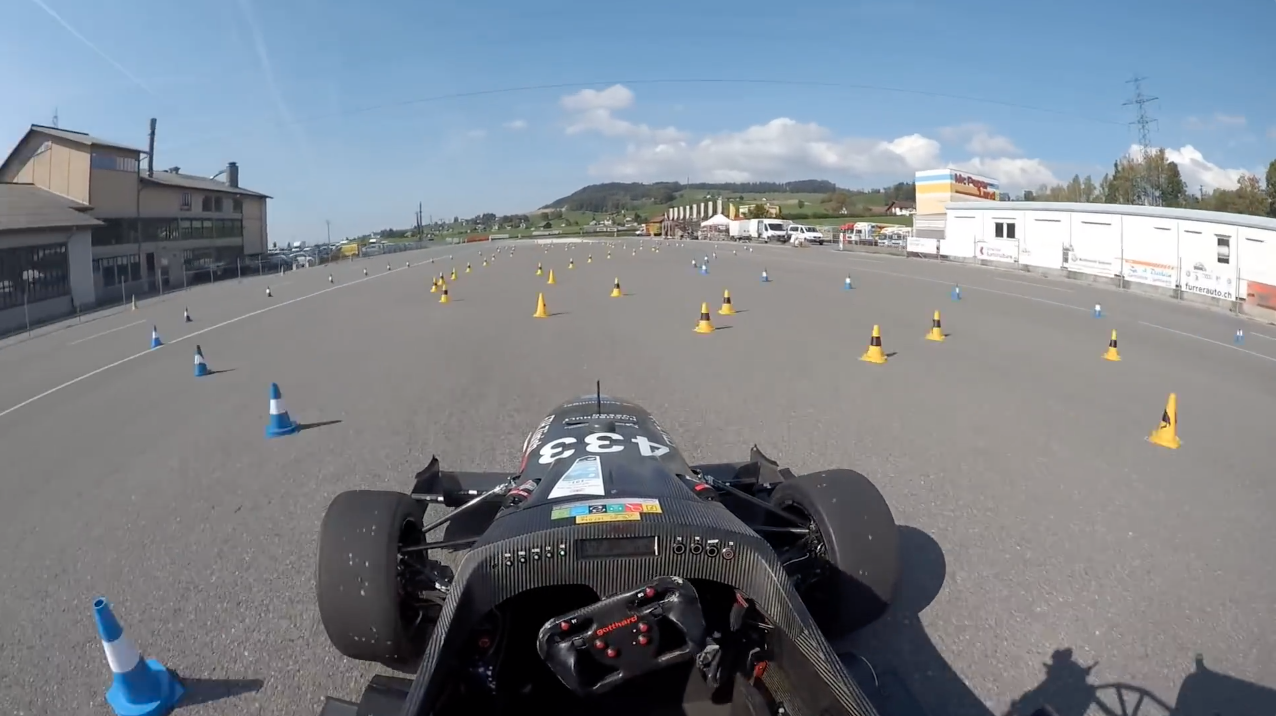lcone: (73, 594, 197, 716), (261, 376, 305, 438), (187, 339, 220, 382)
rcone: (1142, 390, 1186, 451), (859, 318, 891, 371), (1098, 328, 1130, 367), (692, 299, 722, 338), (922, 307, 951, 346), (530, 292, 551, 321), (718, 287, 737, 315)
